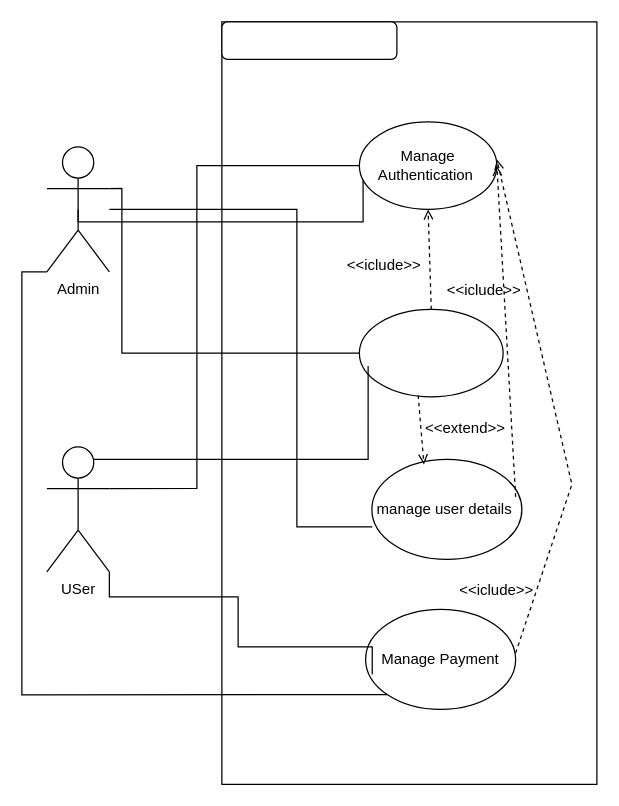
The diagram is 619 pixels wide and 806 high, and some of its shapes have lost their labels. The shapes that lost their labels are listed below. From the top down, each one's box as (x1, y1, x2, y2) in pixels, then its label:
(221, 21, 397, 59): Course registration system
(358, 308, 503, 397): Manage Courses
